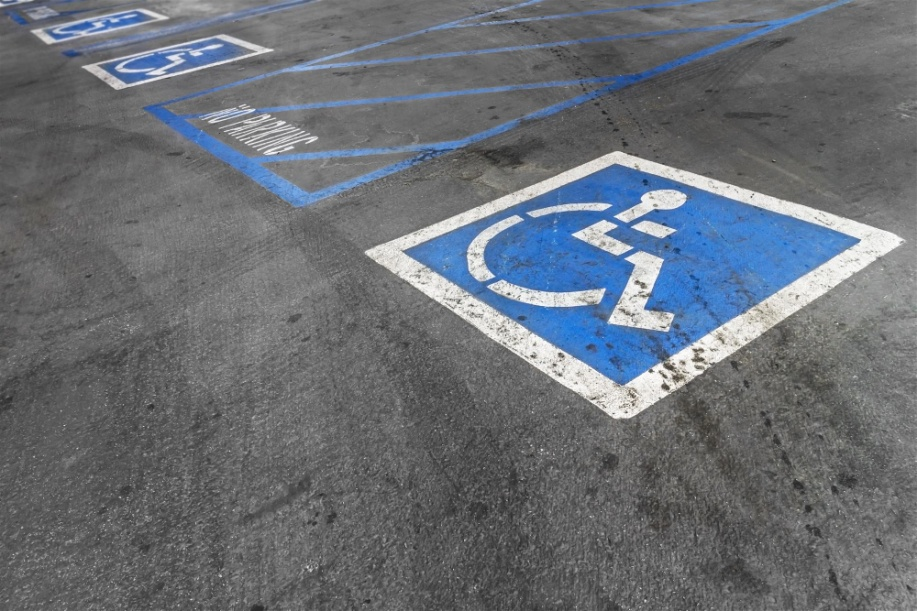empyt_space: (304, 5, 917, 411), (73, 3, 500, 112), (21, 4, 314, 56)
